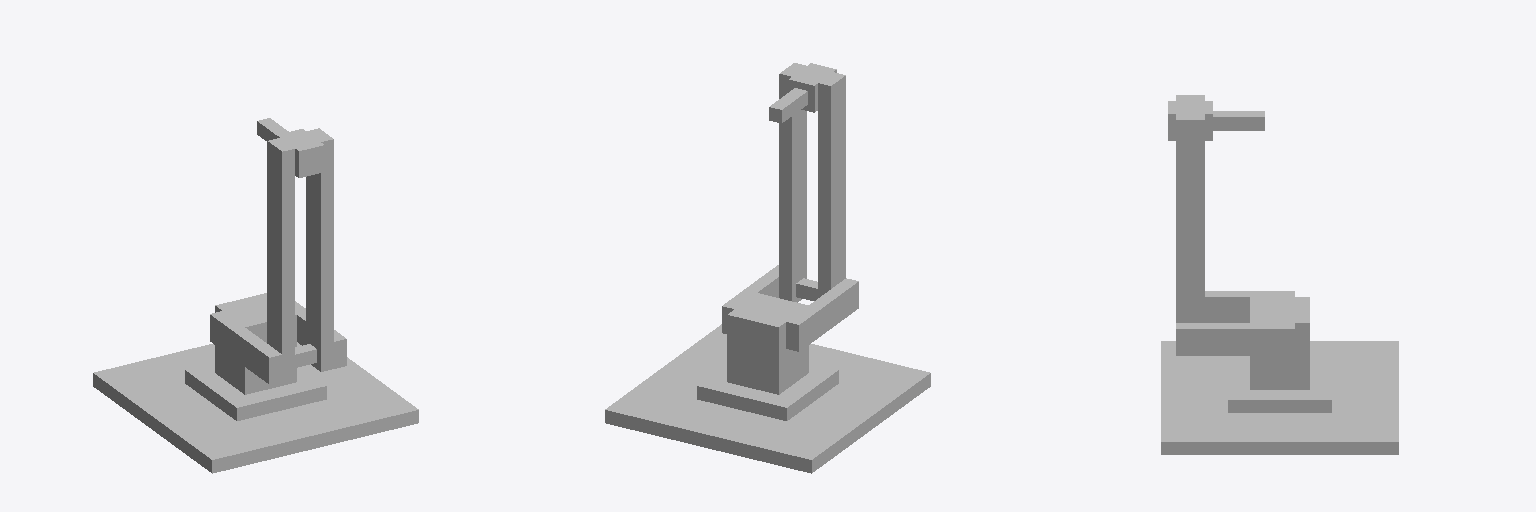
The model's file is assembly_drill.obj.
3 views of the same model, side by side, from view 1: azimuth 30°, elevation 25°; view 2: azimuth 150°, elevation 25°; view 3: azimuth 270°, elevation 25° (orthographic).
Visible parts, largest first — view 1: Base, ArmMiddle2, ArmMiddle1, BaseTurn, BaseTurn2, ArmBase1, DrillBase, ArmBase2; view 2: Base, BaseTurn2, ArmMiddle2, ArmMiddle1, BaseTurn, ArmBase1, ArmBase2, DrillBase, Drill; view 3: Base, ArmMiddle1, BaseTurn2, ArmBase2, BaseTurn, ArmBase1, Drill, DrillBase.
Part boxes in pixels (x1,y1,x2,y2): Base: (93,342,418,473); ArmMiddle2: (267,138,294,381); ArmMiddle1: (306,128,333,371); BaseTurn: (185,362,326,420); BaseTurn2: (215,293,296,394); ArmBase1: (210,311,281,384); DrillBase: (277,129,324,177); ArmBase2: (295,301,346,368); Base: (605,324,930,473); BaseTurn2: (727,293,808,394); ArmMiddle2: (818,72,845,297); ArmMiddle1: (779,63,806,302); BaseTurn: (697,362,838,420); ArmBase1: (786,278,858,351); ArmBase2: (722,265,778,333); DrillBase: (789,63,836,112); Drill: (769,88,807,123); Base: (1161,341,1398,454); ArmMiddle1: (1176,114,1204,322); BaseTurn2: (1250,297,1309,389); ArmBase2: (1176,323,1294,355); BaseTurn: (1228,356,1331,412); ArmBase1: (1205,291,1294,322); Drill: (1213,111,1264,130); DrillBase: (1168,101,1212,140).
Bounding box in the file's own units: 1 × 1.38 × 1.